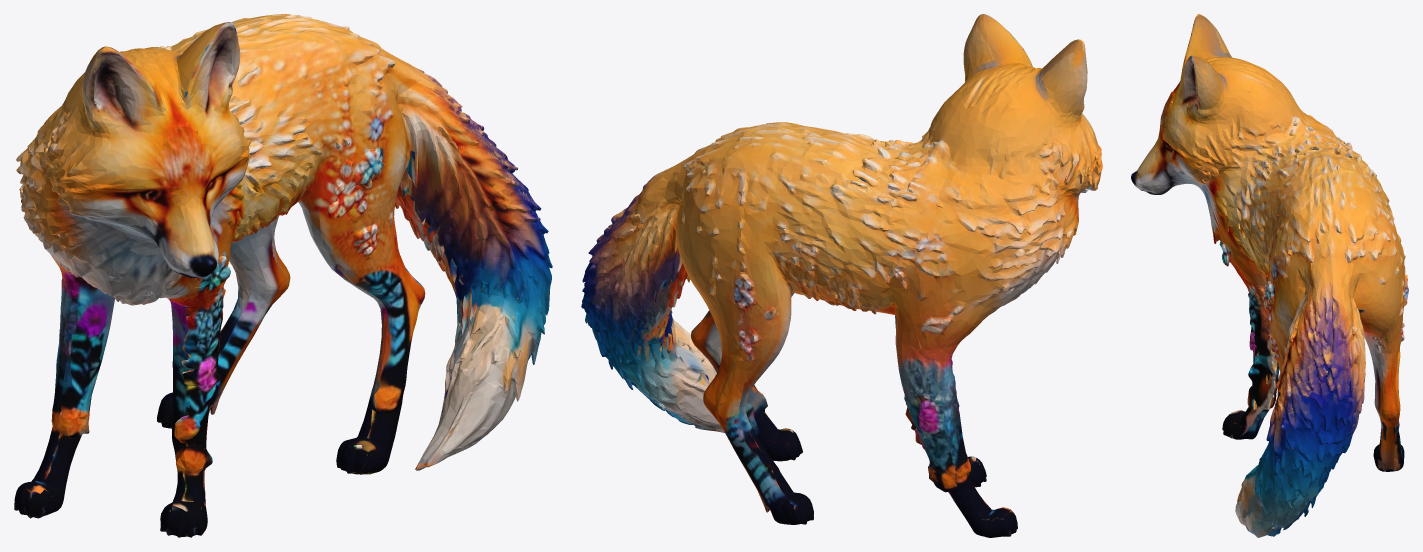
The model's file is agenticvibes-paint.glb.
The picture shows the model from 3 angles, left to right: view 1: azimuth 30°, elevation 25°; view 2: azimuth 150°, elevation 25°; view 3: azimuth 270°, elevation 25°; orthographic projection. The views are drawn at different scales.
Parts seen in each view (by area): view 1: agenticvibes-paint.obj; view 2: agenticvibes-paint.obj; view 3: agenticvibes-paint.obj.
Boxes of the visible parts, bbox=[...] form: agenticvibes-paint.obj: bbox=[14, 14, 552, 537]; agenticvibes-paint.obj: bbox=[581, 14, 1102, 537]; agenticvibes-paint.obj: bbox=[1131, 14, 1408, 537].
Bounding box in the file's own units: 1.99 × 1.85 × 1.21.
Materials: 1 (1 with a texture image).
